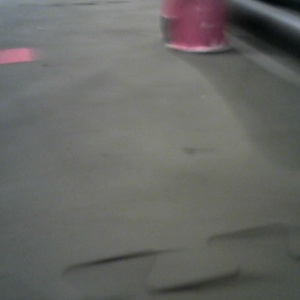middle: (1, 1, 49, 132)
